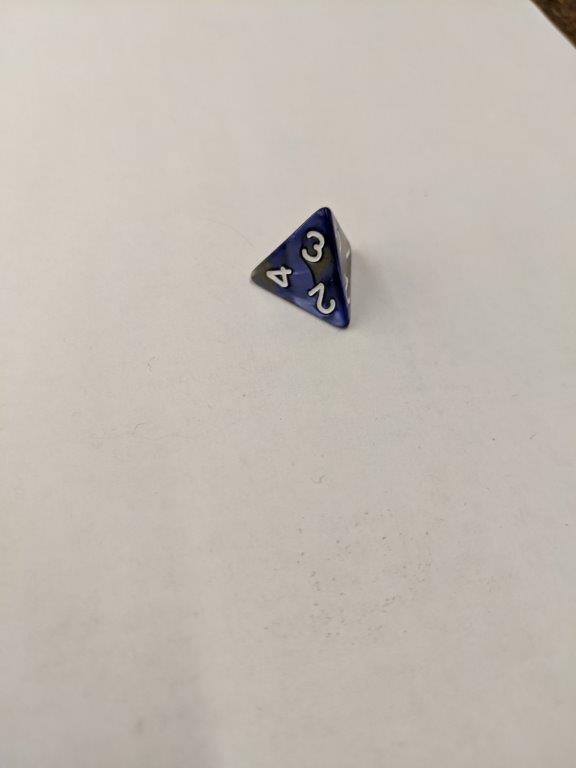d4-3: (246, 206, 357, 335)
